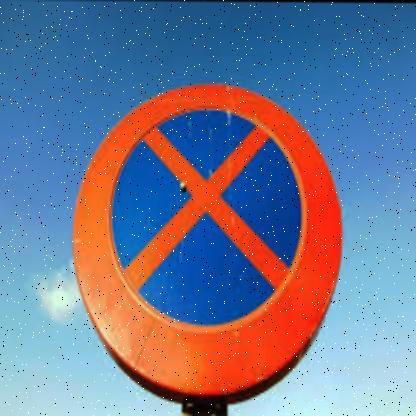No stopping: (67, 71, 346, 394)
